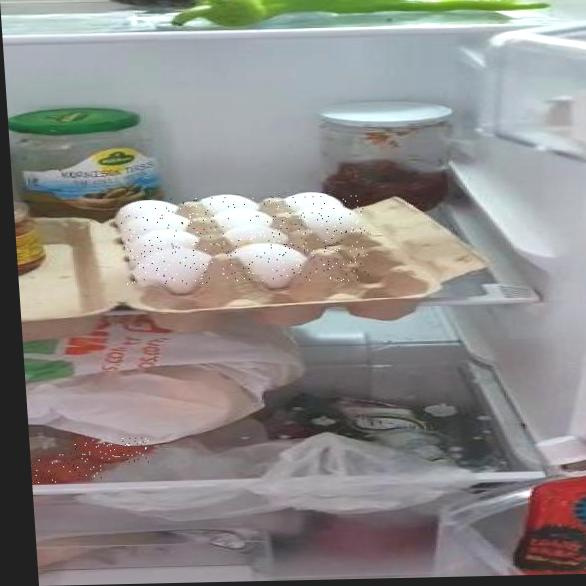eggs: (120, 194, 370, 286)
tomato: (30, 452, 105, 484), (75, 437, 150, 464)
